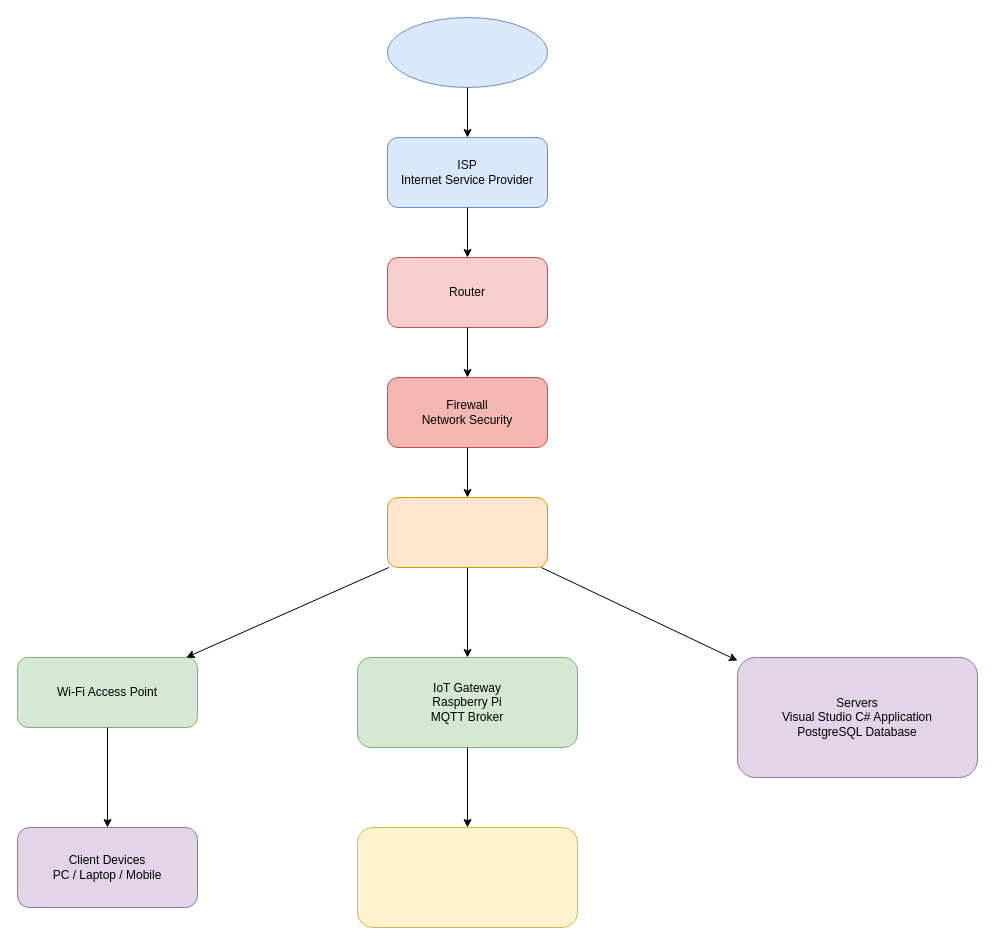
Some shapes in this 995 by 945 pixel diagram are drawn without their labels. The shapes that lost their labels are listed below. From the top down, each one's centre as x and y in pixels, then its label:
[467,52]: Internet
[467,532]: Network Switch
[467,877]: IoT Devices ESP32 Fingerprint Sensor RFID Reader
